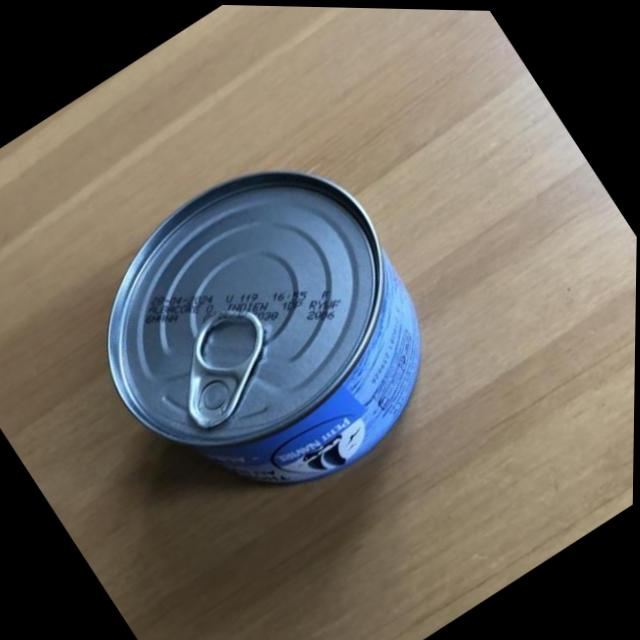metal: (108, 171, 420, 482)
